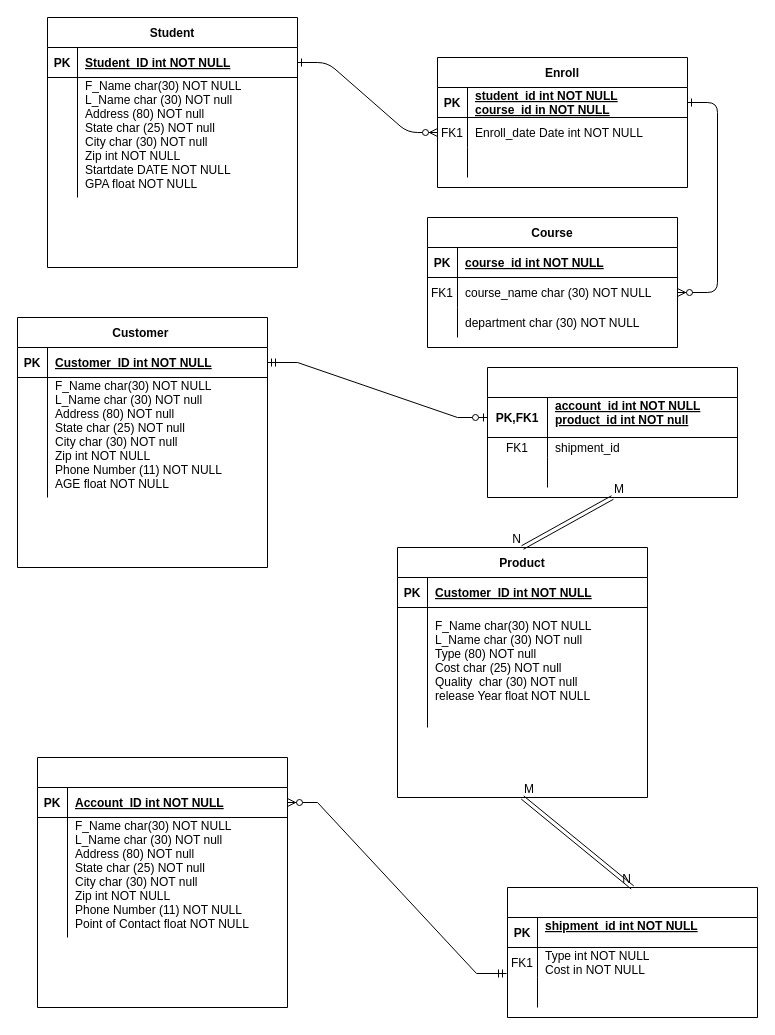
Image size: 775x1035. Some labels were removed from this diagram. The box of each missing label's shape, as (x1, y1, x2, y2) in pixels:
Order: (486, 366, 738, 498)
Shipment Options: (506, 886, 758, 1018)
Vendor: (36, 756, 288, 1008)
